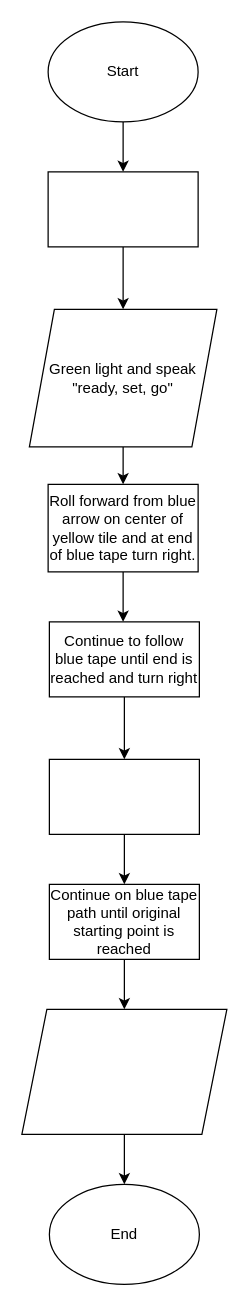
Image size: 249x1306. Some labels were removed from this diagram. Here are the shapes that lost their labels. From the top down, the box of each, then its label:
(47, 171, 198, 247): From yellow square with blue tape,
(48, 758, 199, 834): Follow until end of blue tape and turn right
(21, 1008, 227, 1134): Red light, speak "I'm done and I need water"
